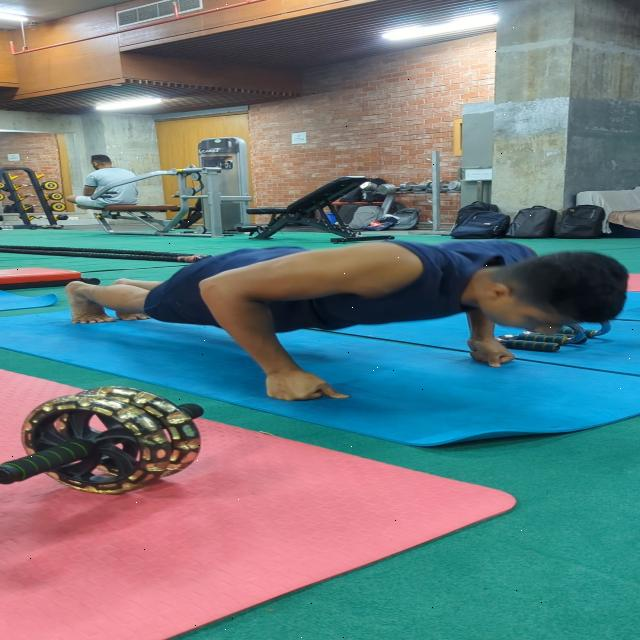Normal_PushUps: (53, 232, 637, 408)
